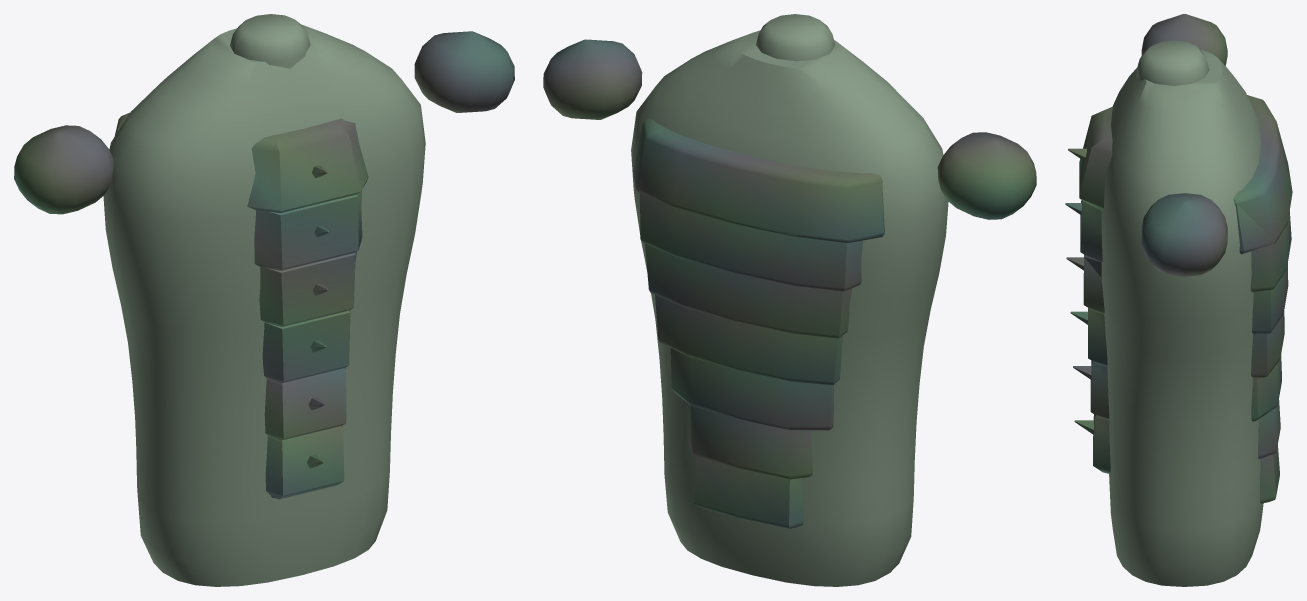
File: torso.glb
3 renders of one model, left to right at view 1: azimuth 30°, elevation 25°; view 2: azimuth 150°, elevation 25°; view 3: azimuth 270°, elevation 25°, orthographic. The views are drawn at different scales.
Parts seen in each view (by area): view 1: OUT; view 2: OUT; view 3: OUT.
Part boxes in pixels (bbox=[...]): OUT: bbox=[14, 14, 514, 586]; OUT: bbox=[543, 14, 1036, 586]; OUT: bbox=[1065, 14, 1292, 586].
Bounding box in the file's own units: 0.5204 × 0.54 × 0.2274.
